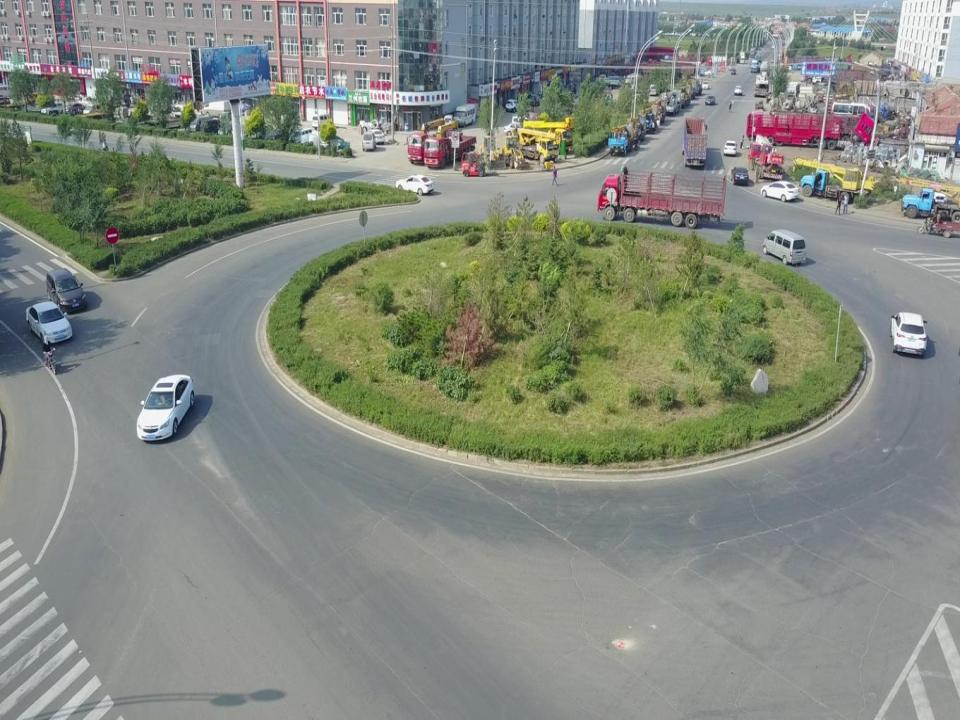bus: (452, 104, 480, 126)
car: (136, 376, 196, 439), (26, 302, 72, 343), (892, 310, 930, 358), (44, 272, 88, 313), (920, 213, 959, 237), (396, 174, 434, 196), (762, 182, 800, 200), (727, 166, 751, 185), (723, 138, 737, 156), (705, 94, 716, 107), (703, 78, 711, 91), (734, 87, 743, 96), (732, 67, 736, 74)
truck: (598, 168, 726, 226), (800, 164, 858, 196), (423, 132, 476, 166), (682, 118, 710, 167), (407, 126, 424, 166), (610, 129, 630, 156)
van: (900, 188, 960, 218), (764, 227, 808, 264), (360, 130, 376, 150)
